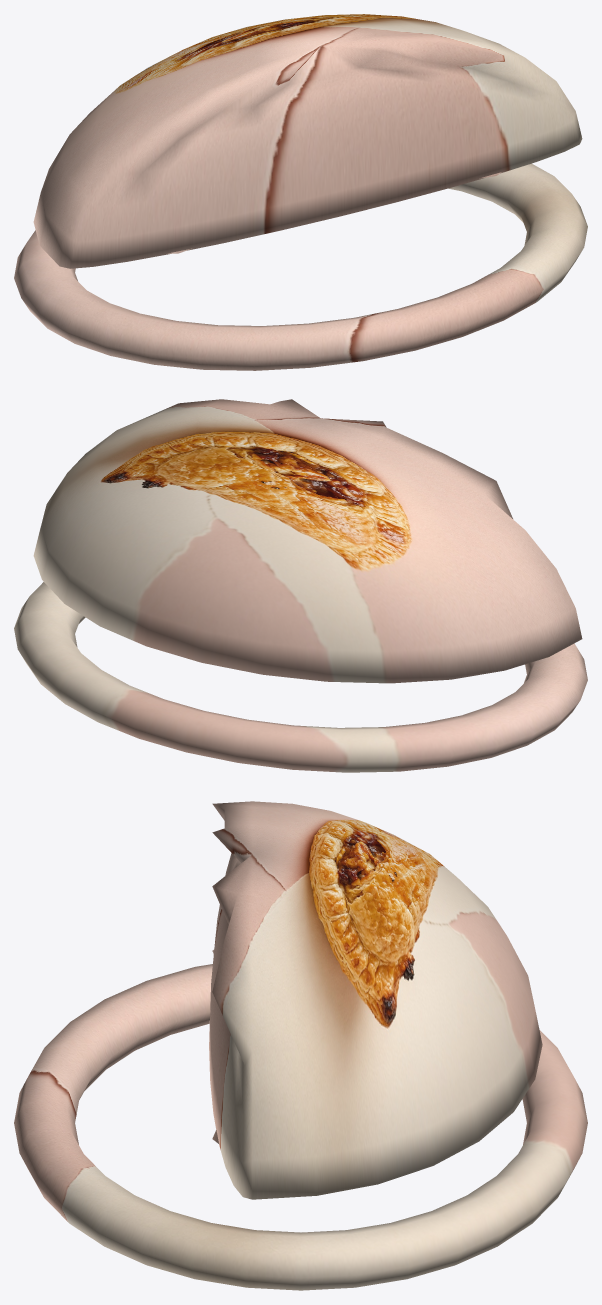
The model's file is prop_savory_bbq.glb.
The picture shows the model from 3 angles, top to bottom: view 1: azimuth 30°, elevation 25°; view 2: azimuth 150°, elevation 25°; view 3: azimuth 270°, elevation 25°; orthographic projection. The views are drawn at different scales.
Visible parts, largest first — view 1: prop_savory_bbq; view 2: prop_savory_bbq; view 3: prop_savory_bbq.
Part boxes in pixels (x1,y1,x2,y2): prop_savory_bbq: [14, 14, 587, 370]; prop_savory_bbq: [14, 399, 587, 772]; prop_savory_bbq: [14, 801, 587, 1290].
Bounding box in the file's own units: 0.1513 × 0.0668 × 0.1184.
2 materials, 2 textured.
